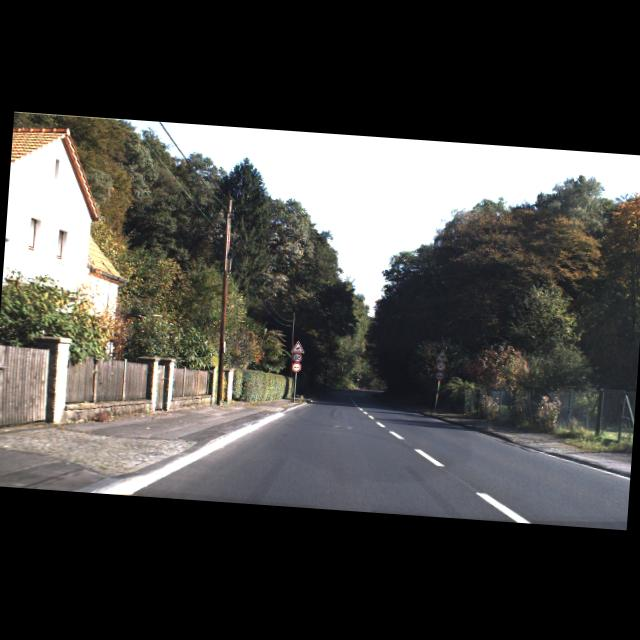danger: (434, 348, 450, 362), (290, 339, 306, 352)
prohibitory: (291, 361, 302, 372), (292, 352, 303, 362), (436, 360, 446, 371), (434, 370, 444, 380)
